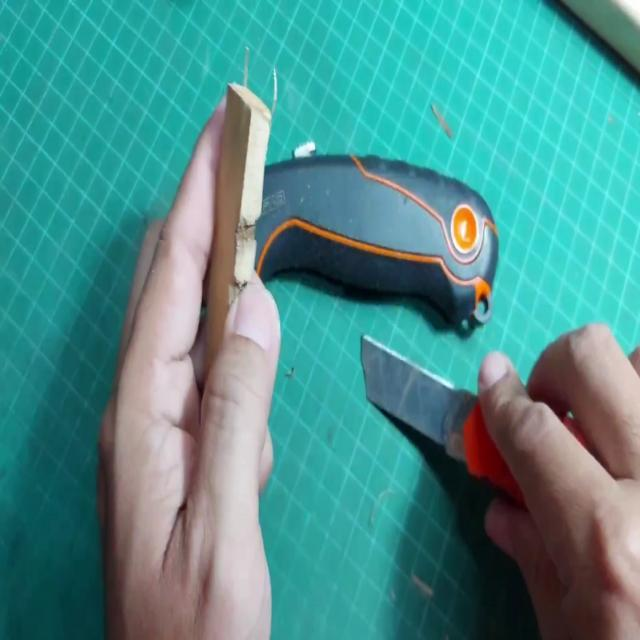cutter: (89, 45, 640, 640)
